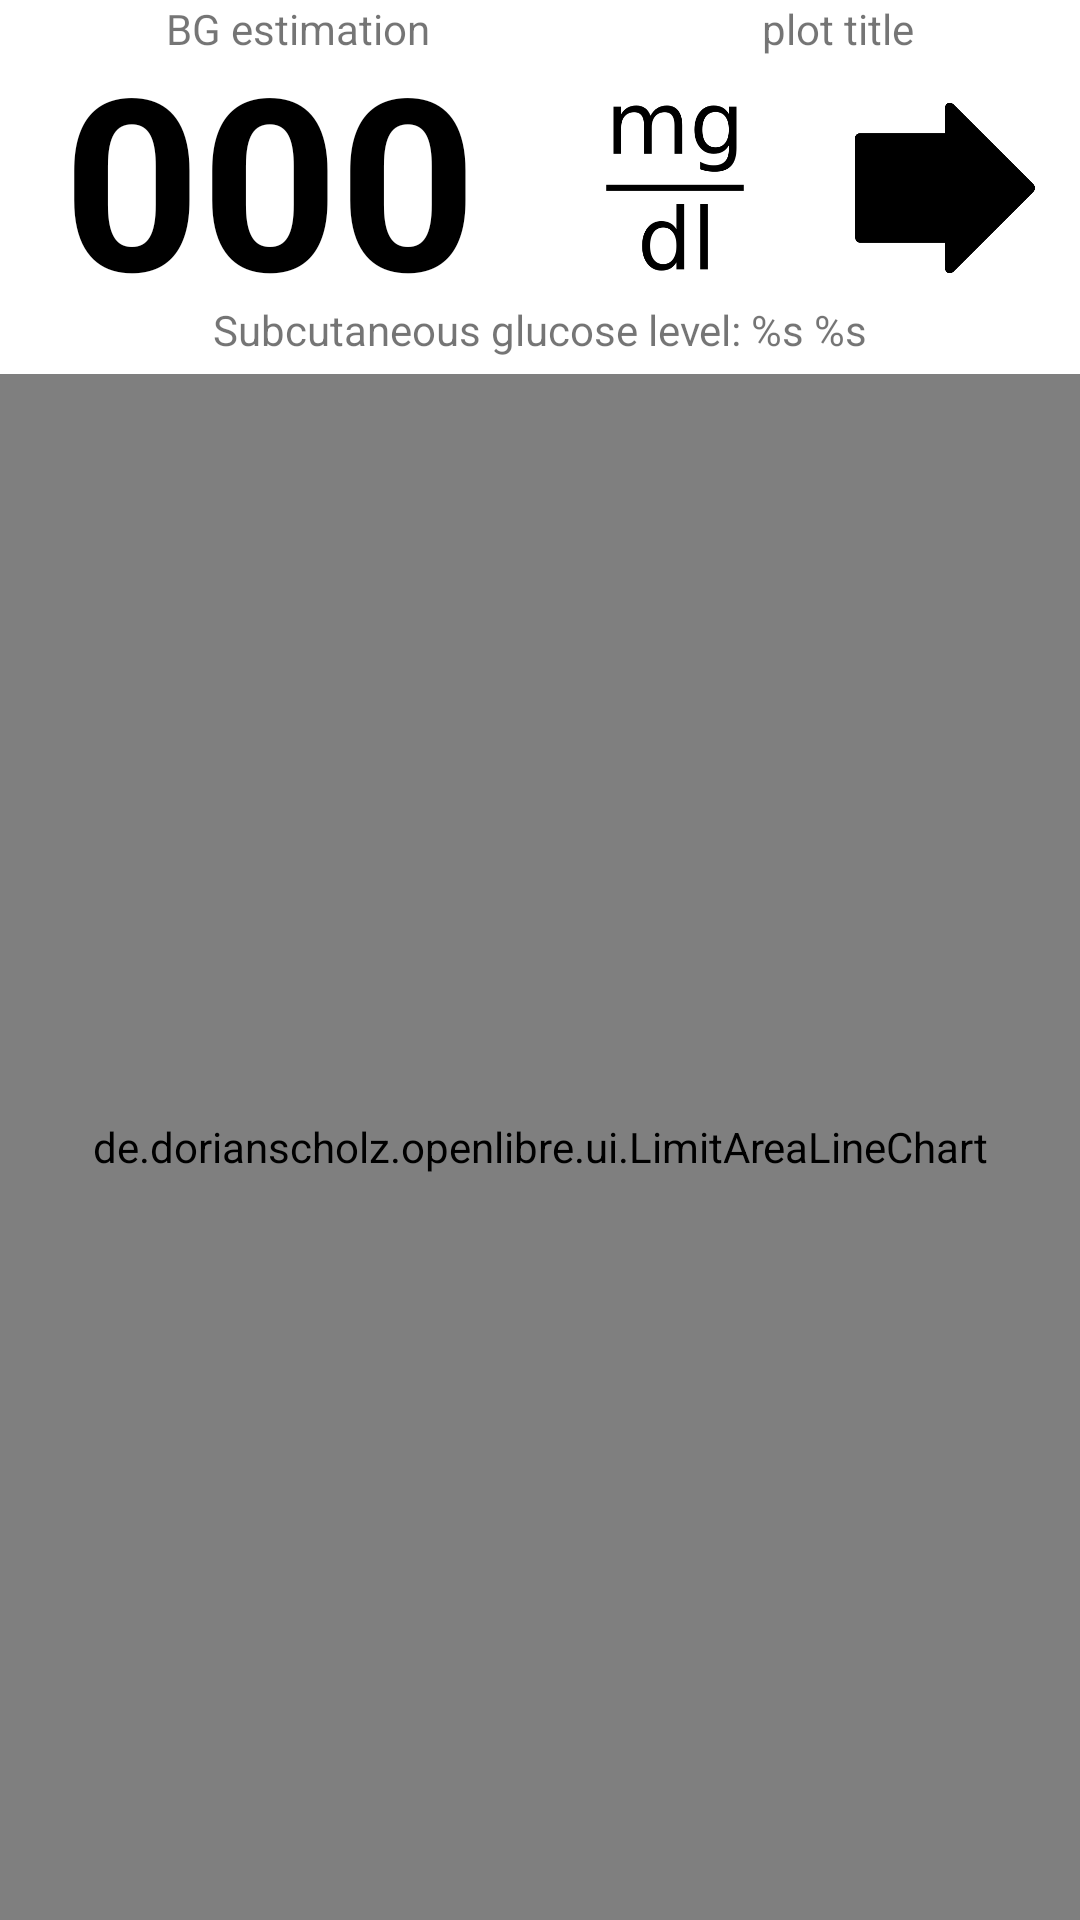

Named icons in this screenshot (1080×1920) and their bounding boxes, rect(x1, y1, x2, y2):
arrow: rect(855, 103, 1035, 273)
